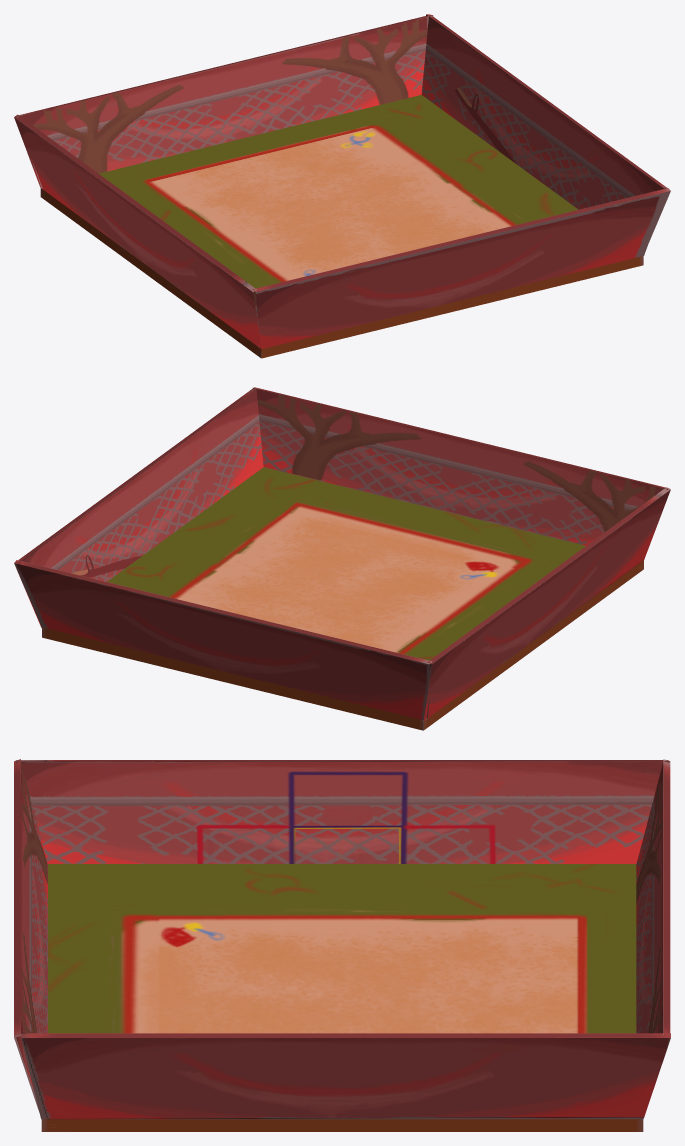
File: Mapa_Ira.fbx
3 views of the same model, one above another, from view 1: azimuth 30°, elevation 25°; view 2: azimuth 150°, elevation 25°; view 3: azimuth 270°, elevation 25° (orthographic). The views are drawn at different scales.
Visible parts, largest first — view 1: Piso, ParedeFeita, Parede1Feita, Parede2Feita, Parede.003; view 2: Piso, Parede1Feita, ParedeFeita, Parede2Feita, Parede.003; view 3: Piso, Parede.003, Parede2Feita, Parede1Feita, ParedeFeita.
Boxes of the visible parts, x1,y1,x2,y2 form: Piso: [40, 95, 643, 358]; ParedeFeita: [15, 15, 433, 188]; Parede1Feita: [252, 188, 670, 348]; Parede2Feita: [421, 14, 666, 255]; Parede.003: [14, 114, 260, 348]; Piso: [42, 467, 643, 730]; Parede1Feita: [252, 387, 668, 560]; ParedeFeita: [14, 560, 432, 720]; Parede2Feita: [14, 389, 263, 628]; Parede.003: [423, 487, 670, 721]; Piso: [41, 864, 643, 1131]; Parede.003: [15, 760, 669, 863]; Parede2Feita: [20, 1033, 670, 1119]; Parede1Feita: [14, 759, 48, 1118]; ParedeFeita: [636, 759, 670, 1037].
Size of the model in its own units: 1858 by 335 by 1856.
